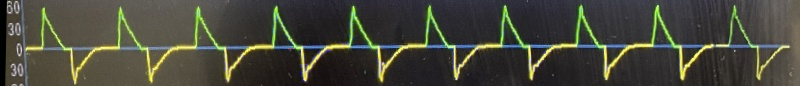normal_flow: (17, 0, 800, 86)
